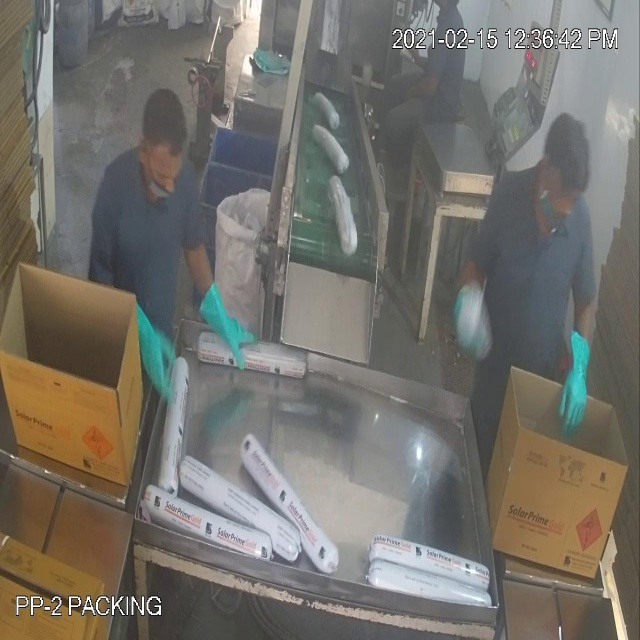Guantes: (120, 292, 183, 410), (552, 314, 600, 460), (198, 268, 256, 384)
